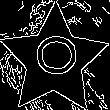O_W: (29, 38, 80, 83)
